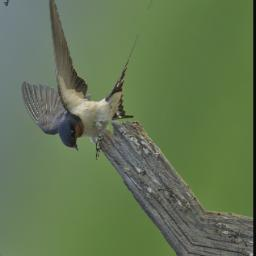Swallow: (3, 0, 161, 176)
